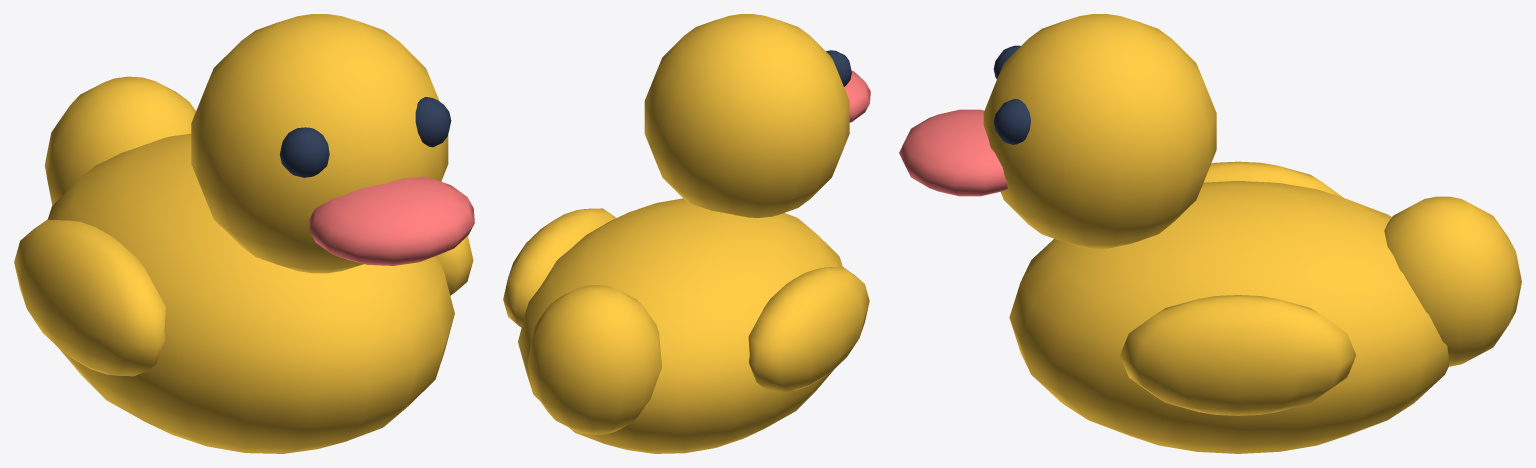
Rendered from DecorDuck.fbx.
The picture shows the model from 3 angles, left to right: view 1: azimuth 30°, elevation 25°; view 2: azimuth 150°, elevation 25°; view 3: azimuth 270°, elevation 25°; orthographic projection. The views are drawn at different scales.
Visible parts, largest first — view 1: DecorDuck mesh; view 2: DecorDuck mesh; view 3: DecorDuck mesh.
Part boxes in pixels (bbox=[...]): DecorDuck mesh: bbox=[14, 14, 474, 453]; DecorDuck mesh: bbox=[503, 14, 870, 453]; DecorDuck mesh: bbox=[899, 14, 1521, 453].
Bounding box in the file's own units: 0.104 × 0.114 × 0.158.
